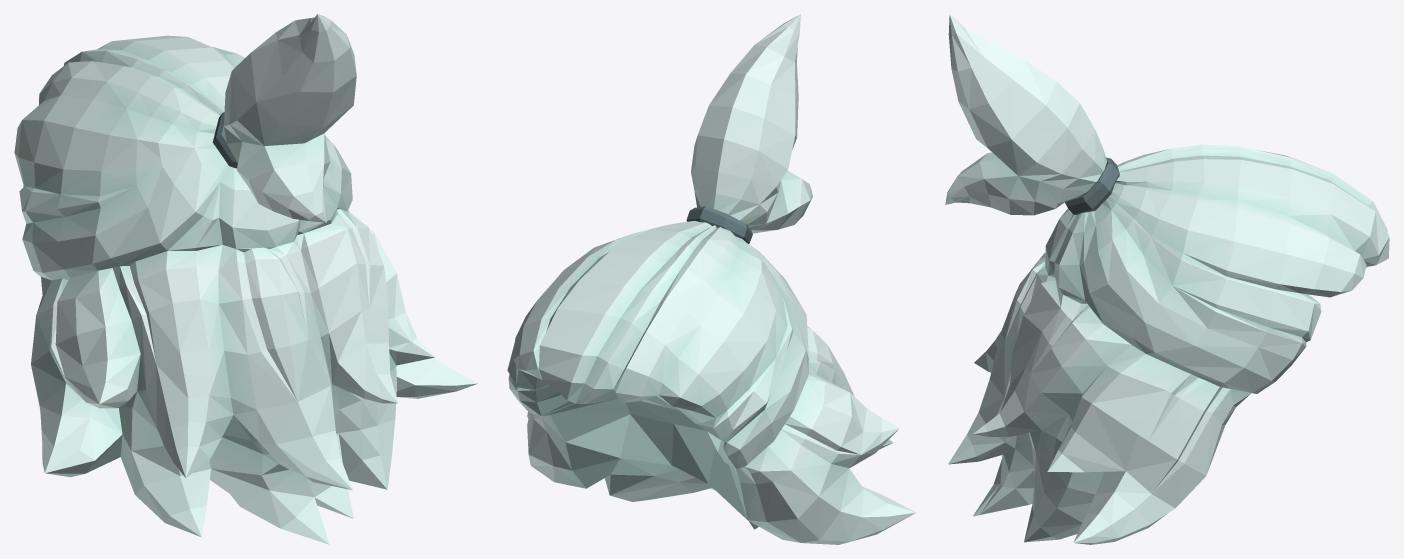
Rendered from CharSkyKid_Hair_AP23PianistKnot.glb.
The picture shows the model from 3 angles, left to right: view 1: azimuth 30°, elevation 25°; view 2: azimuth 150°, elevation 25°; view 3: azimuth 270°, elevation 25°; orthographic projection. The views are drawn at different scales.
Parts seen in each view (by area): view 1: CharSkyKid_Hair_AP23PianistKnot; view 2: CharSkyKid_Hair_AP23PianistKnot; view 3: CharSkyKid_Hair_AP23PianistKnot.
Boxes of the visible parts, x1,y1,x2,y2 form: CharSkyKid_Hair_AP23PianistKnot: (14, 14, 477, 544); CharSkyKid_Hair_AP23PianistKnot: (507, 14, 916, 544); CharSkyKid_Hair_AP23PianistKnot: (945, 14, 1389, 544).
Bounding box in the file's own units: 3.69 × 4.47 × 3.66.
Materials: 1 (1 with a texture image).
